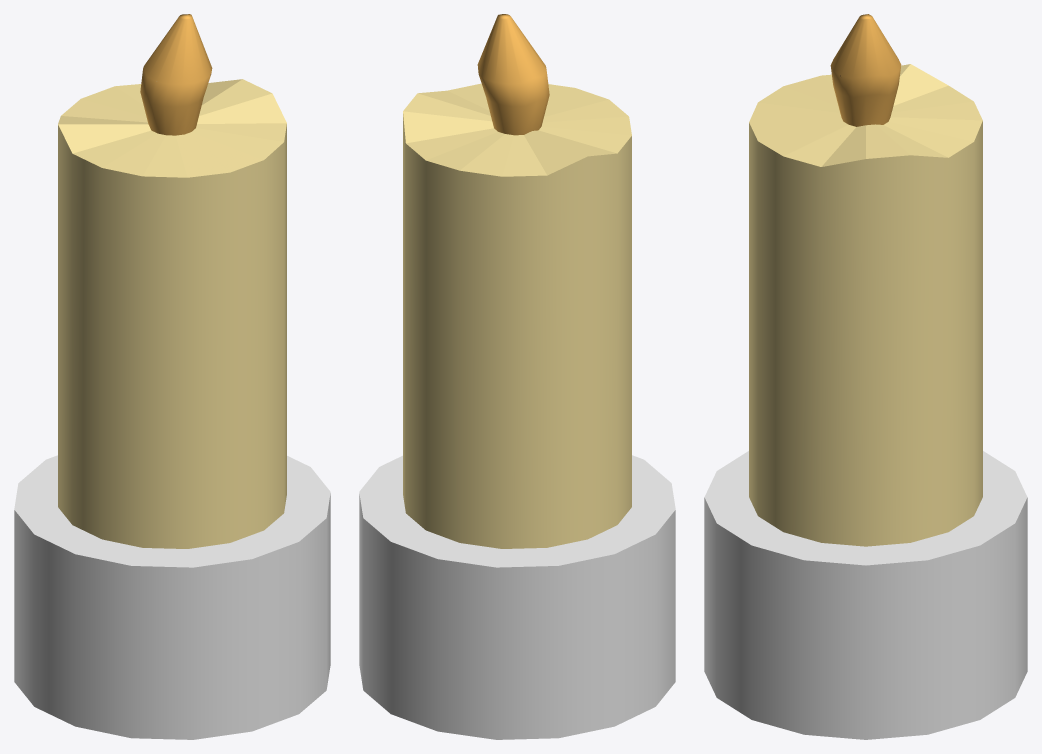
Rendered from Candle.fbx.
3 views of the same model, side by side, from view 1: azimuth 30°, elevation 25°; view 2: azimuth 150°, elevation 25°; view 3: azimuth 270°, elevation 25° (orthographic).
Parts seen in each view (by area): view 1: pCylinder1; view 2: pCylinder1; view 3: pCylinder1.
Part boxes in pixels (x1,y1,x2,y2): pCylinder1: (14, 14, 330, 739); pCylinder1: (359, 14, 675, 739); pCylinder1: (704, 14, 1027, 739).
Bounding box in the file's own units: 13.52 × 30.54 × 13.52.
